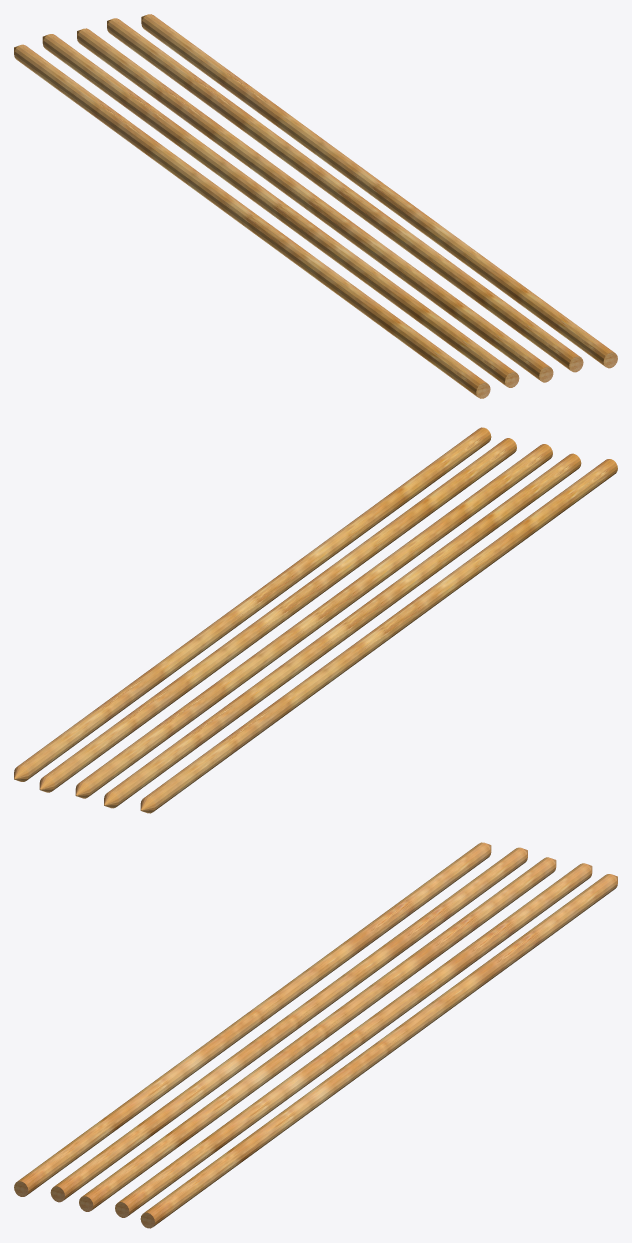
Rendered from SataySkewer.fbx.
3 renders of one model, top to bottom at view 1: azimuth 30°, elevation 25°; view 2: azimuth 150°, elevation 25°; view 3: azimuth 330°, elevation 25°, orthographic.
Parts seen in each view (by area): view 1: Cylinder.003, SataySkewer, Cylinder, Cylinder.001, Cylinder.002; view 2: Cylinder, Cylinder.001, SataySkewer, Cylinder.002, Cylinder.003; view 3: Cylinder, Cylinder.001, SataySkewer, Cylinder.002, Cylinder.003.
Part boxes in pixels (x1,y1,x2,y2): Cylinder.003: (141,14,617,368); SataySkewer: (14,44,490,398); Cylinder: (77,28,553,382); Cylinder.001: (107,18,583,372); Cylinder.002: (42,34,519,387); Cylinder: (75,444,552,798); Cylinder.001: (39,438,516,792); SataySkewer: (140,459,617,813); Cylinder.002: (104,453,581,808); Cylinder.003: (14,427,491,781); Cylinder: (79,857,556,1211); Cylinder.001: (115,863,592,1217); SataySkewer: (14,842,491,1196); Cylinder.002: (50,847,527,1202); Cylinder.003: (140,874,617,1228).
Bounding box in the file's own units: 254 × 26.88 × 1473.
